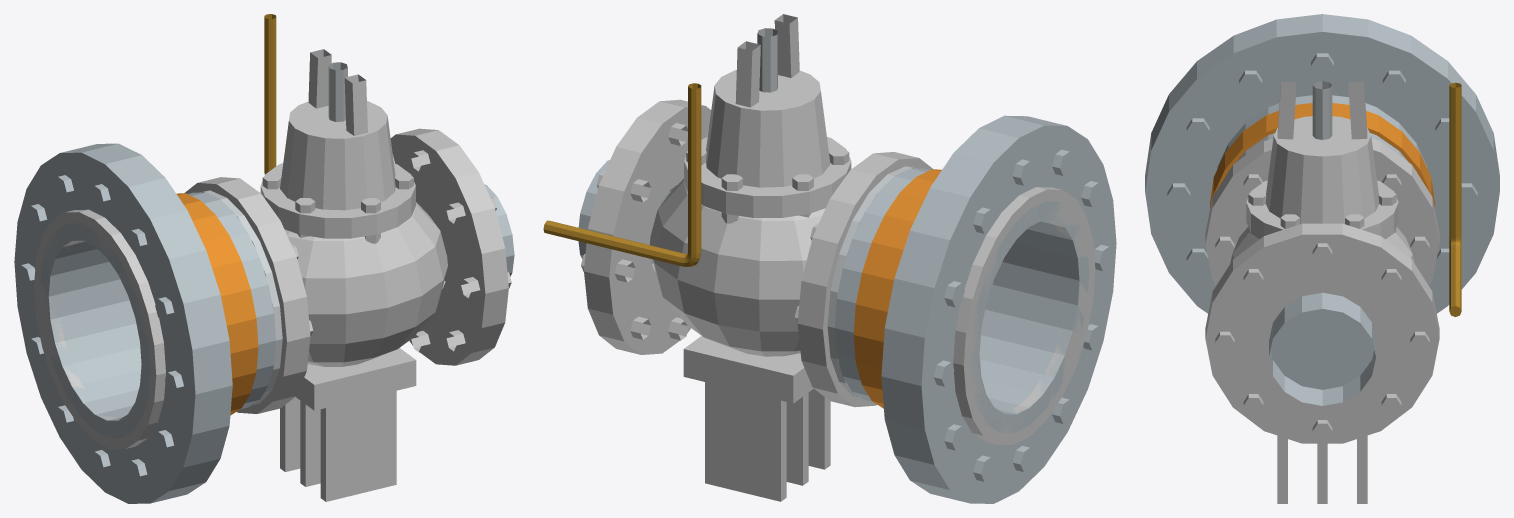
The model's file is cell_119.obj.
3 renders of one model, left to right at view 1: azimuth 30°, elevation 25°; view 2: azimuth 150°, elevation 25°; view 3: azimuth 270°, elevation 25°, orthographic. The views are drawn at different scales.
Size of the model in its own units: 1 by 1 by 0.8.
